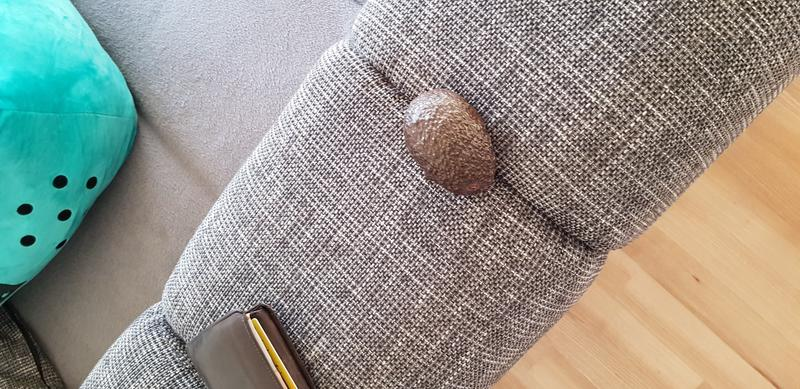Avocado: (396, 78, 500, 207)
